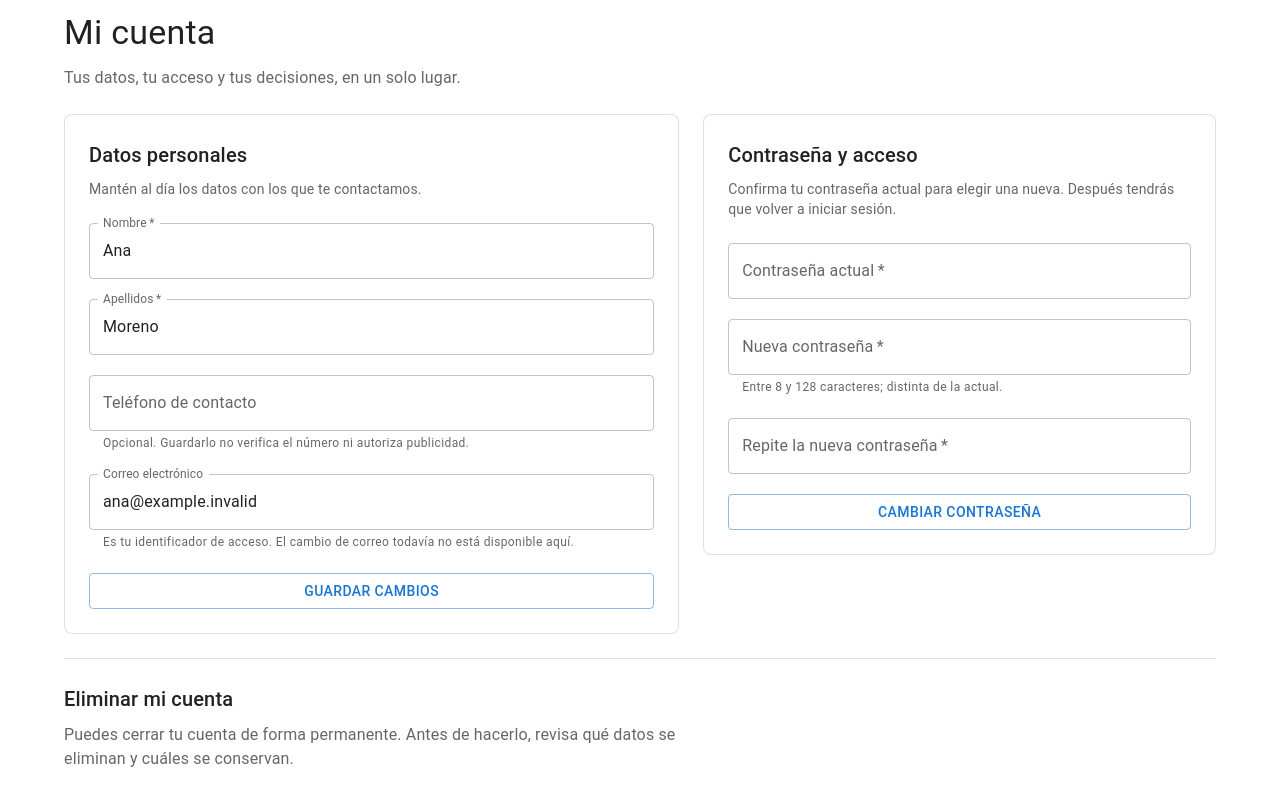
Test: does not send mismatching new passwords
Type "old-secret" into the password field labelled "Contraseña actual". click: (960, 271)
box: [728,243,1191,299]
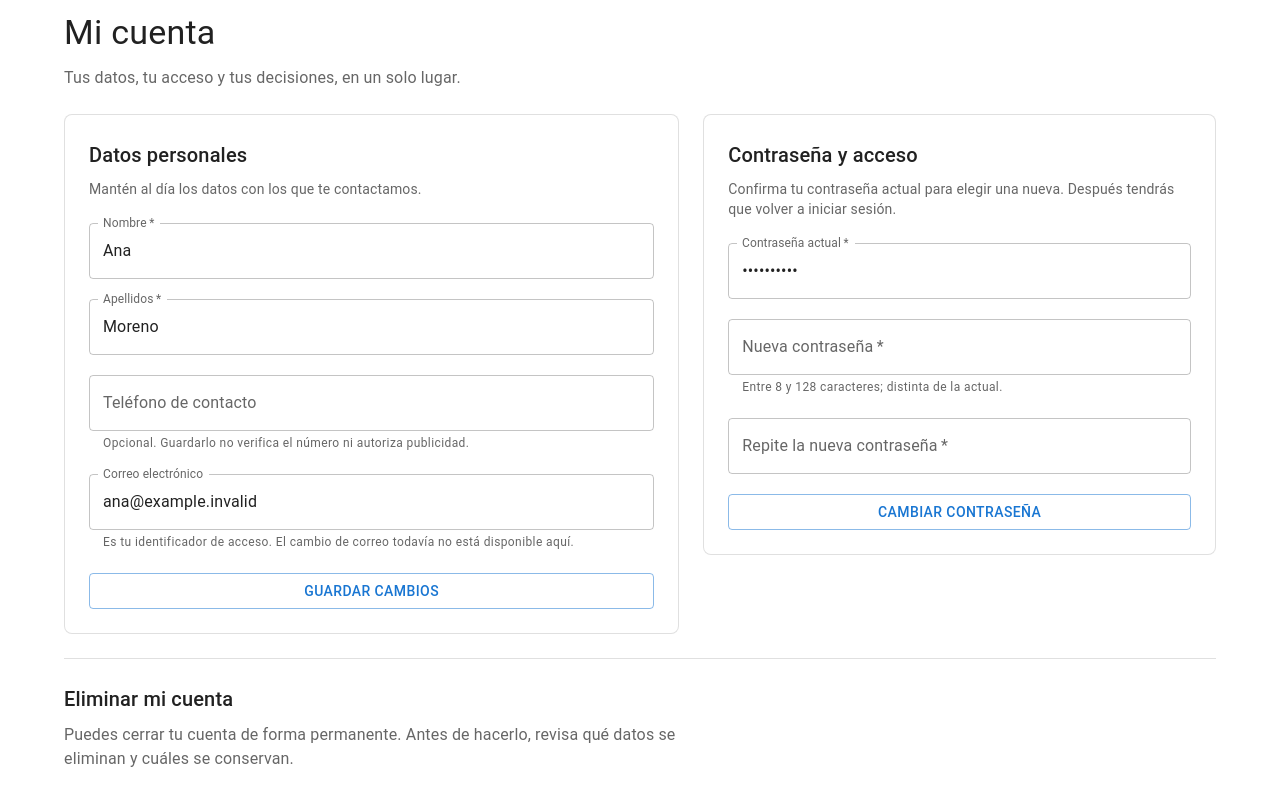
Type "new-secret" into the password field labelled "Nueva contraseña *". click: (960, 347)
box: [728,319,1191,375]
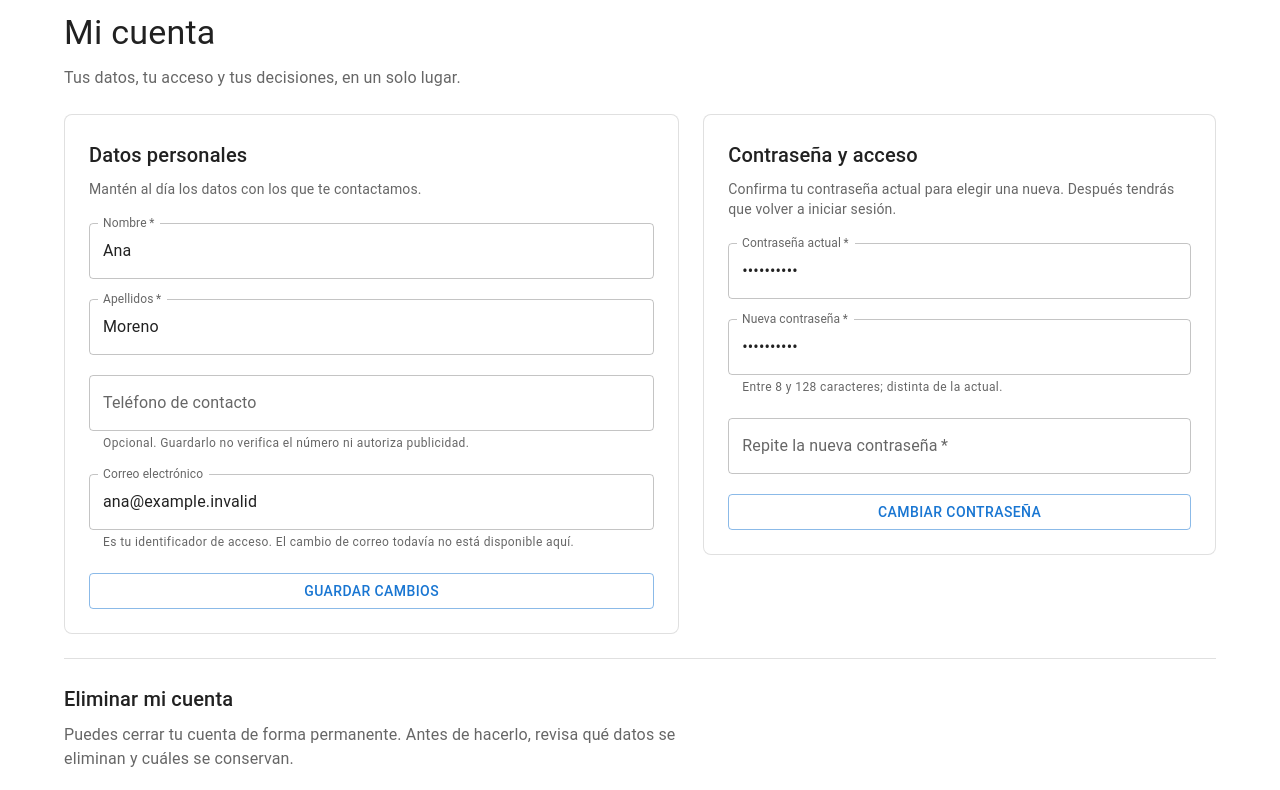
Type "not-matching" into the password field labelled "Repite la nueva contraseña". click: (960, 446)
box: [728,418,1191,474]
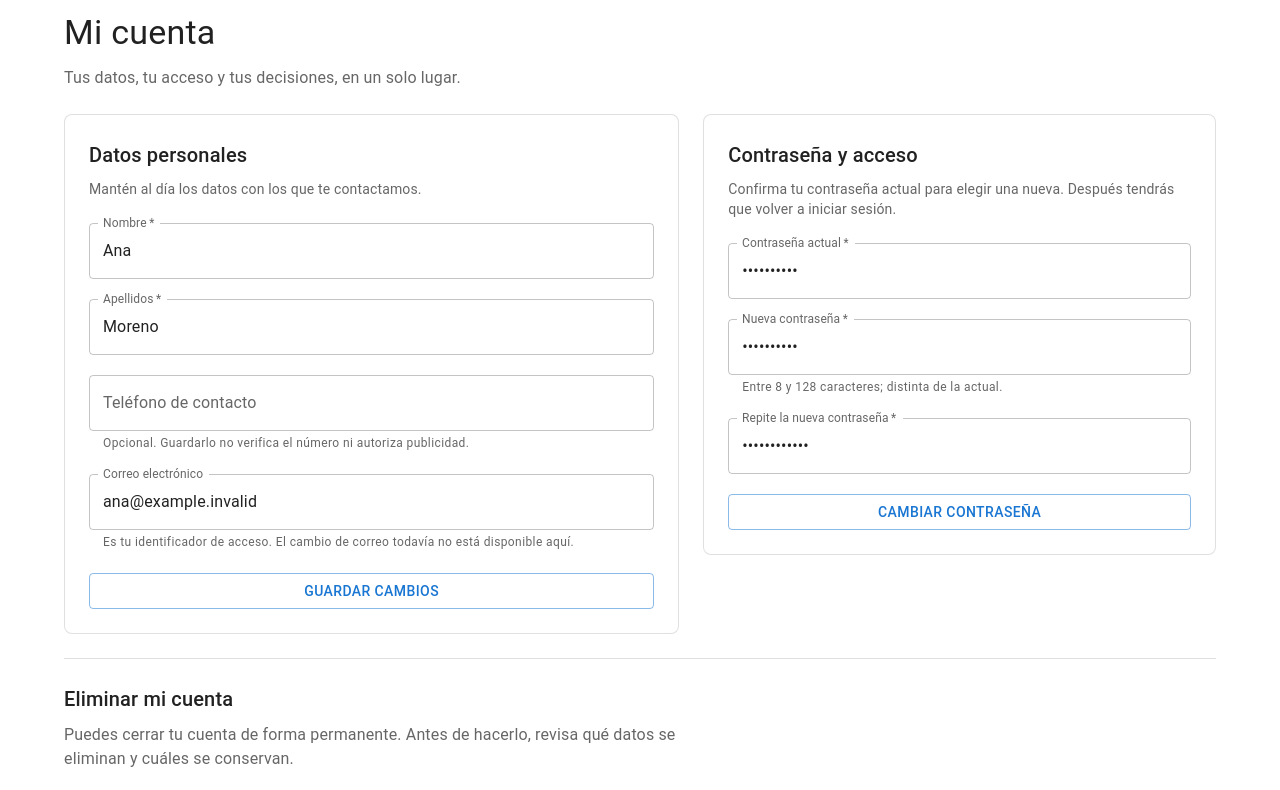
Click the button "Cambiar contraseña". click: click(960, 512)
box: [728,494,1191,530]
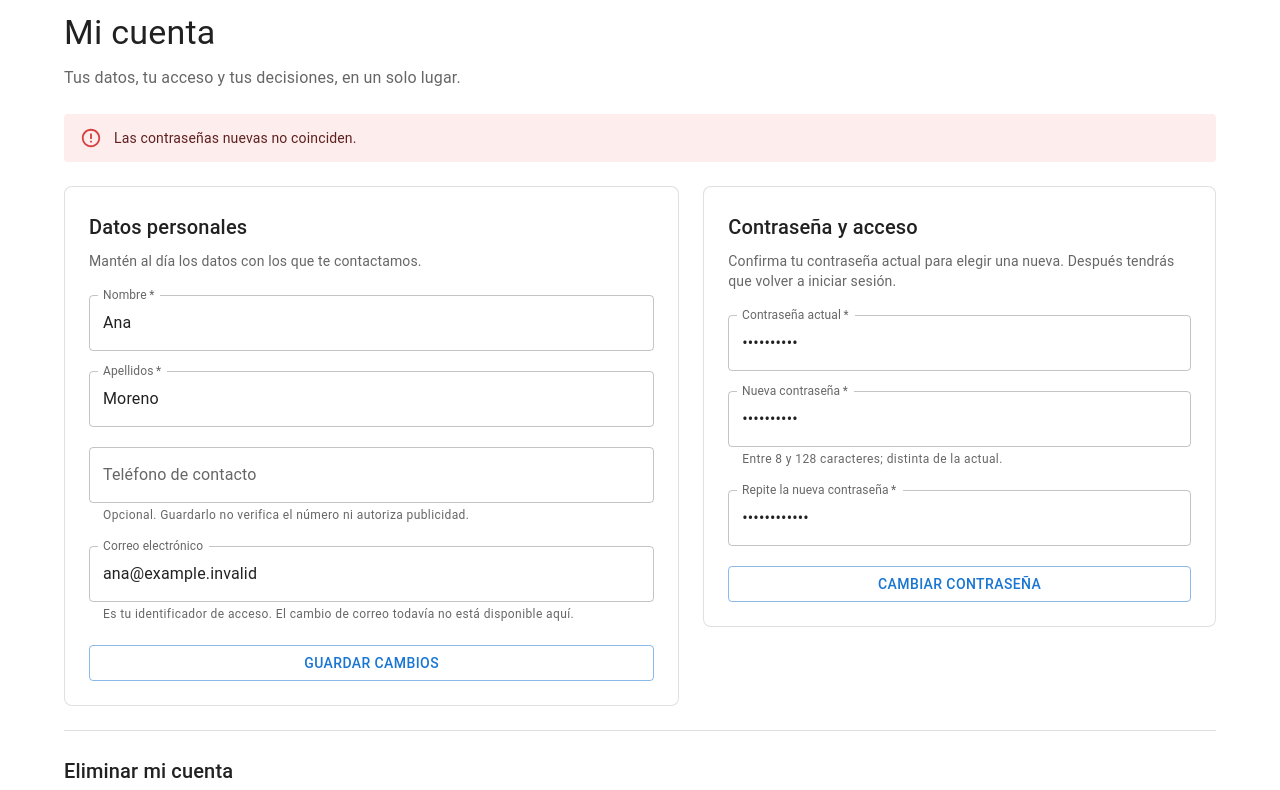
Expected: the text "Las contraseñas nuevas no coinciden." is shown, [114,130,356,146]
